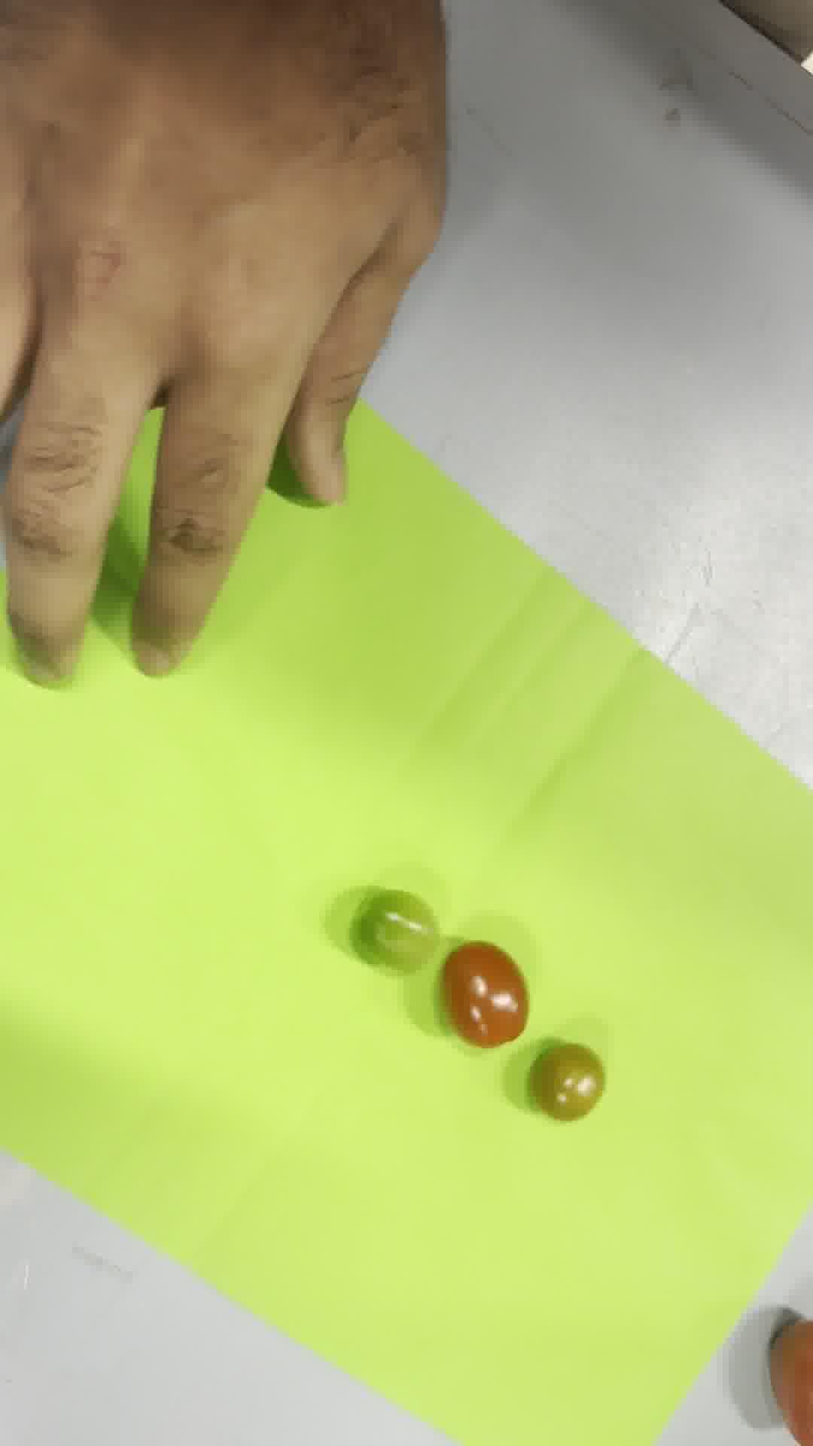green_cherry_tomato: (349, 887, 440, 975)
red_cherry_tomato: (441, 941, 528, 1048)
yellow_cherry_tomato: (529, 1040, 604, 1121)
